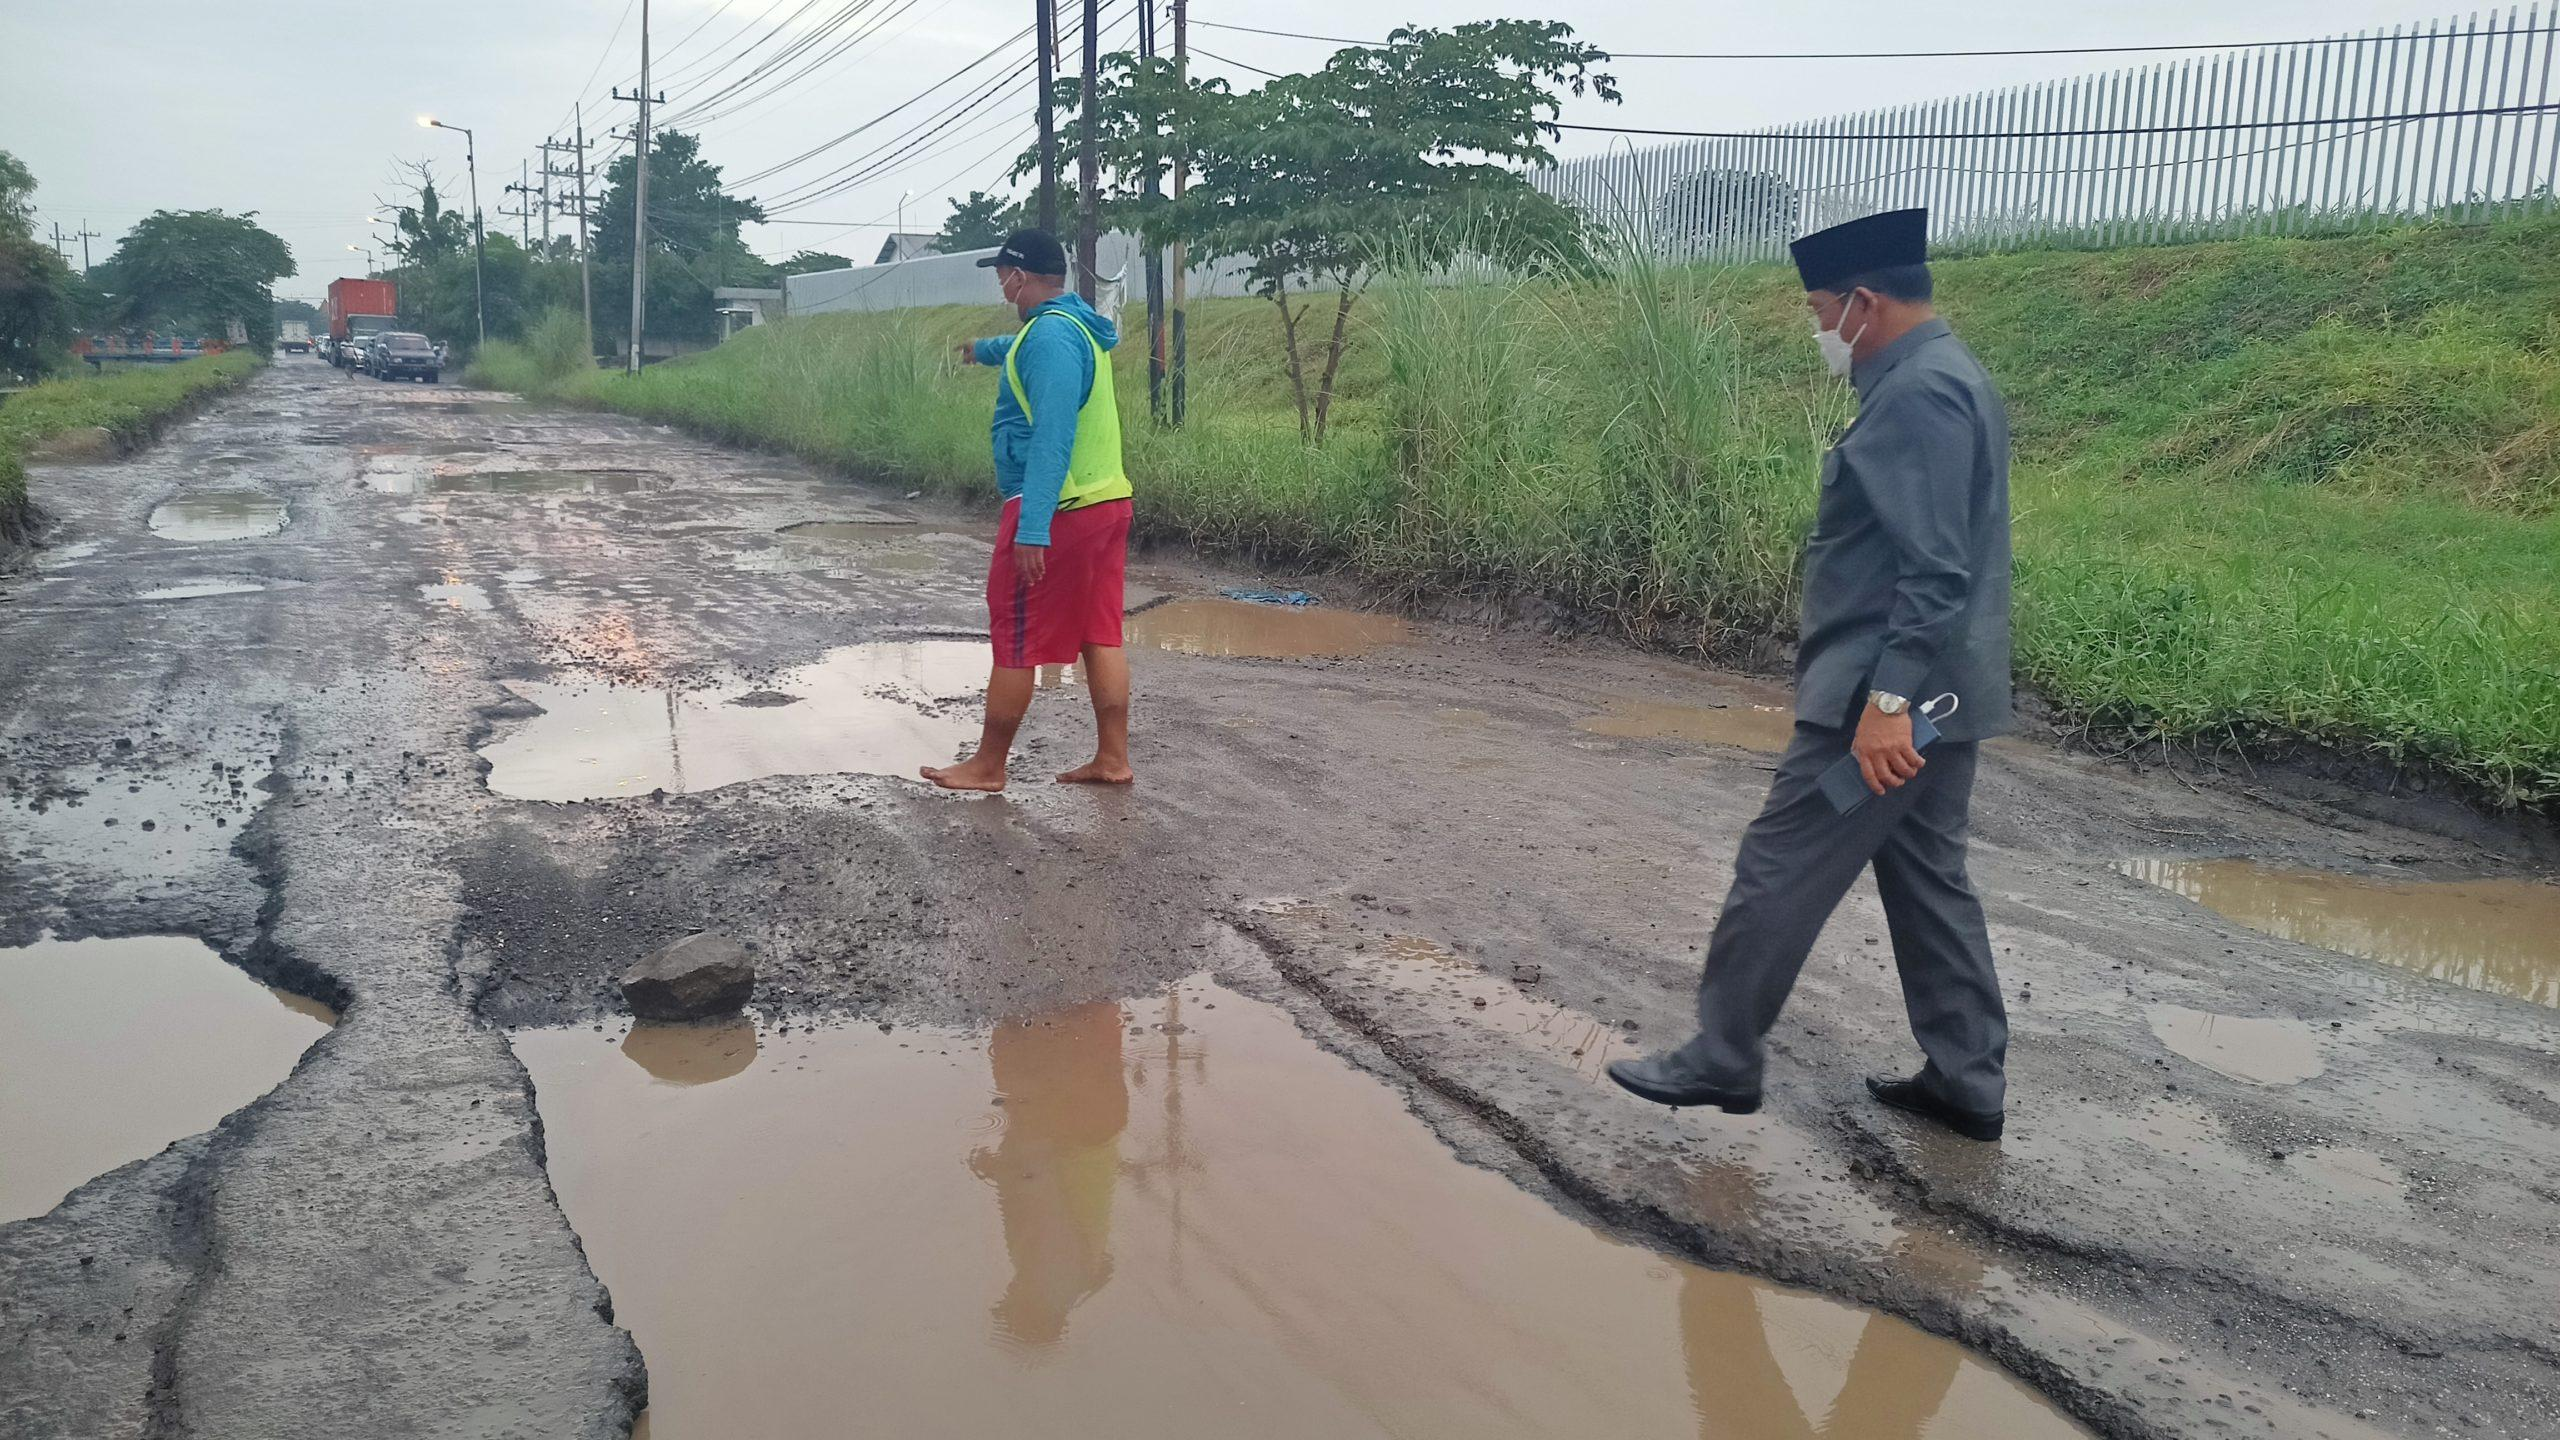Pothole: (476, 921, 2124, 1440), (2033, 788, 2560, 1129), (0, 807, 345, 1285), (397, 417, 974, 589), (422, 647, 1030, 768), (1087, 517, 1458, 682), (1523, 617, 1867, 749), (121, 462, 331, 656)
